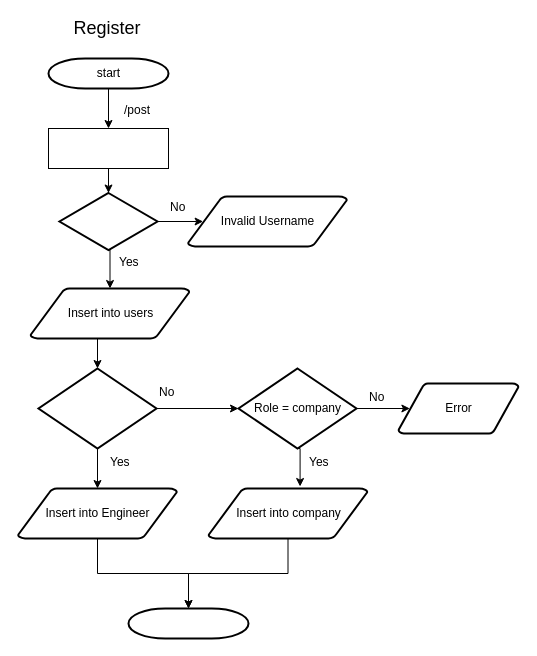
Some shapes in this 537 by 656 pixel diagram are drawn without their labels. The shapes that lost their labels are listed below. From the top down, each one's centre as x and y in pixels, then its label:
point 108,148: /register
point 108,221: Regex
point 97,408: Role = engineer
point 188,623: End
